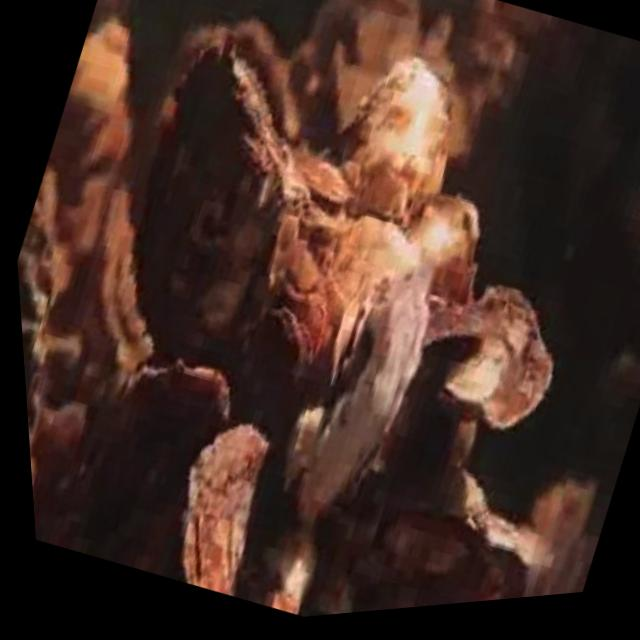Oyster-Closed: (233, 303, 314, 438), (406, 193, 486, 304), (473, 511, 554, 577), (262, 517, 318, 611), (326, 295, 376, 397), (296, 145, 360, 206), (480, 578, 511, 601)
Oyster-Indeterminate: (142, 27, 302, 353), (288, 273, 422, 528), (17, 112, 83, 526), (325, 55, 451, 232), (416, 292, 554, 437), (176, 419, 276, 600), (120, 353, 234, 486), (310, 218, 420, 322), (378, 518, 498, 603), (240, 14, 320, 135), (443, 52, 482, 157), (358, 0, 421, 62), (314, 0, 363, 72)
